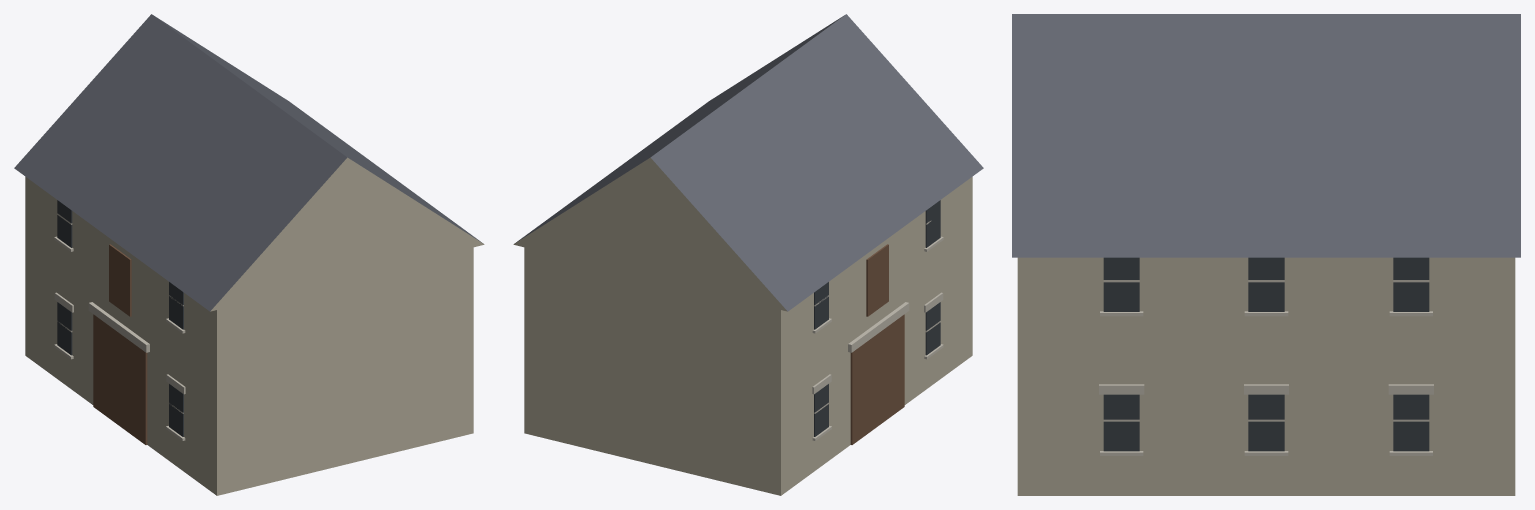
File: house_1901_indiana_shed__draft_1904.glb
3 views of the same model, side by side, from view 1: azimuth 30°, elevation 25°; view 2: azimuth 150°, elevation 25°; view 3: azimuth 270°, elevation 25° (orthographic). The views are drawn at different scales.
Visible parts, largest first — view 1: house_1901_indiana_shed__draft_1904; view 2: house_1901_indiana_shed__draft_1904; view 3: house_1901_indiana_shed__draft_1904.
Boxes of the visible parts, x1=… form: house_1901_indiana_shed__draft_1904: x1=14, y1=14, x2=484, y2=495; house_1901_indiana_shed__draft_1904: x1=513, y1=14, x2=983, y2=495; house_1901_indiana_shed__draft_1904: x1=1012, y1=14, x2=1520, y2=495.
Size of the model in its own units: 9.1 by 9.77 by 11.24.
